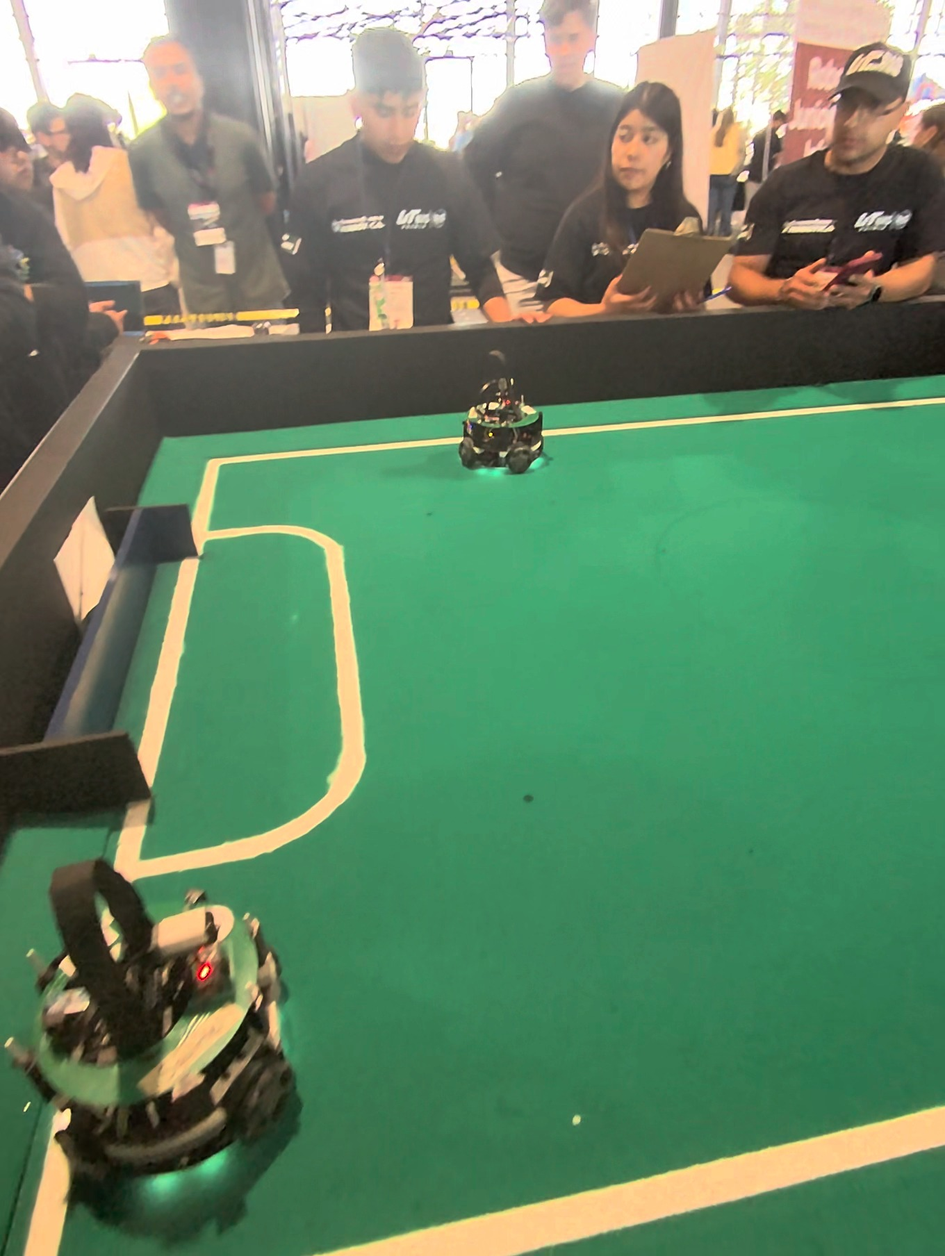Robot: (4, 825, 325, 1246), (460, 352, 552, 485)
